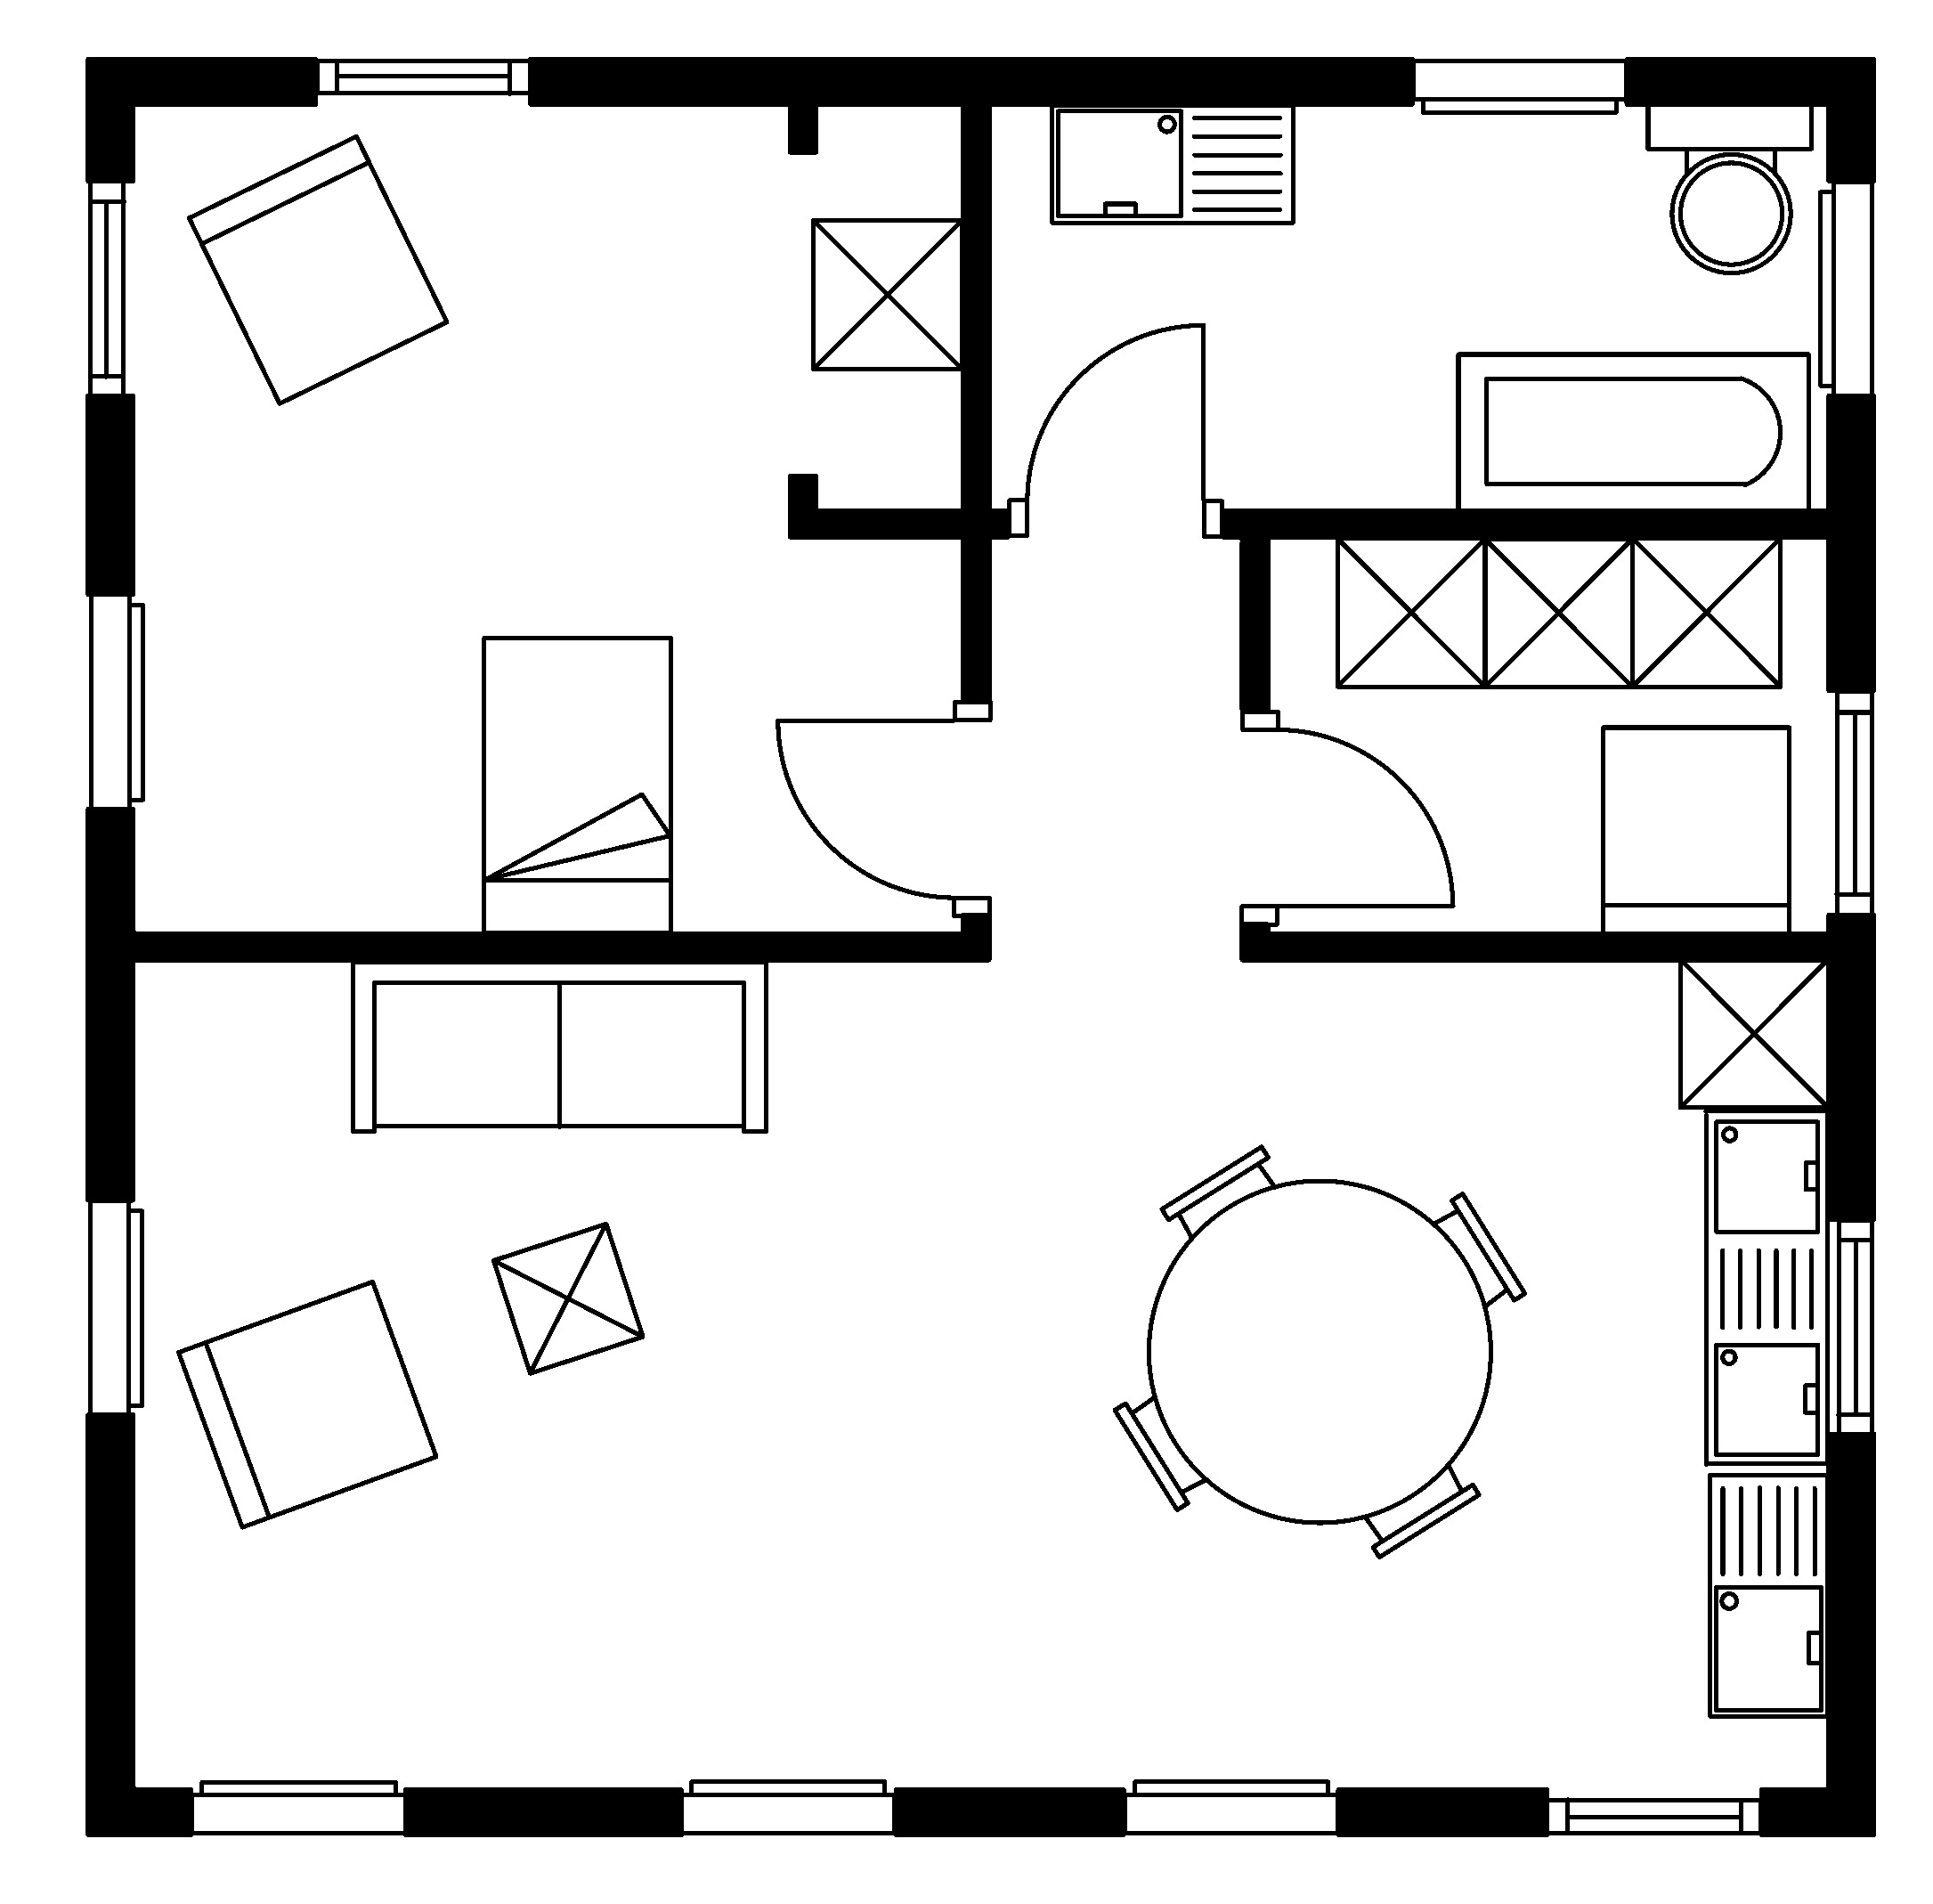basin: (1699, 1107, 1828, 1724), (1046, 101, 1304, 227)
bed: (474, 631, 678, 933)
door: (1006, 316, 1224, 542), (769, 701, 994, 919), (1238, 710, 1457, 926)
roundTable: (1109, 1140, 1530, 1564)
window: (1551, 1789, 1755, 1841), (84, 178, 131, 401), (1832, 687, 1877, 914), (315, 56, 526, 101), (1834, 1222, 1877, 1438)
